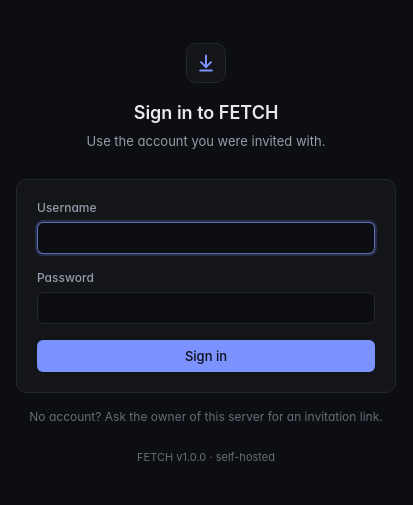
Test: authentication › shows the server's message when the credentials are wrong
Type "bob" into the field labelled "Username" at (206, 238), box [37,222,375,254]
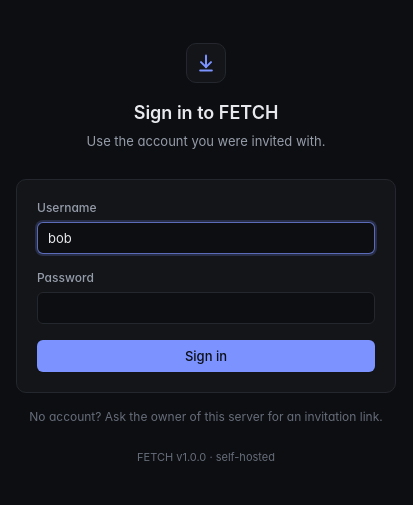
Type "wrong" into the password field labelled "Password" at (206, 308), box [37,292,375,324]
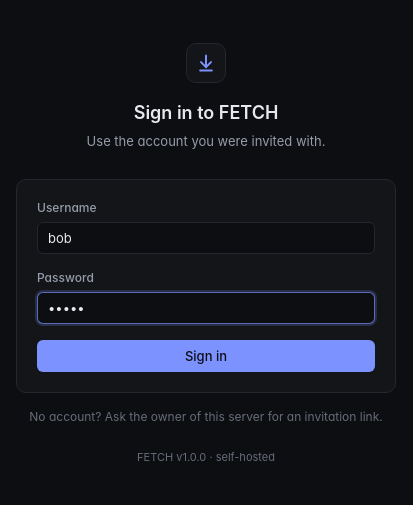
Click the button "Sign in" at (206, 356), box [37,340,375,372]
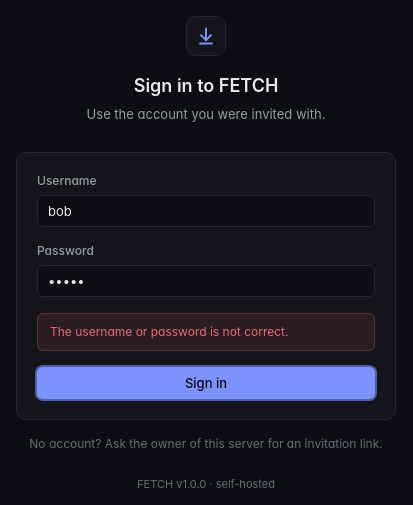
expect the message reads "The username or password is not correct.": met, box [50,324,288,339]
